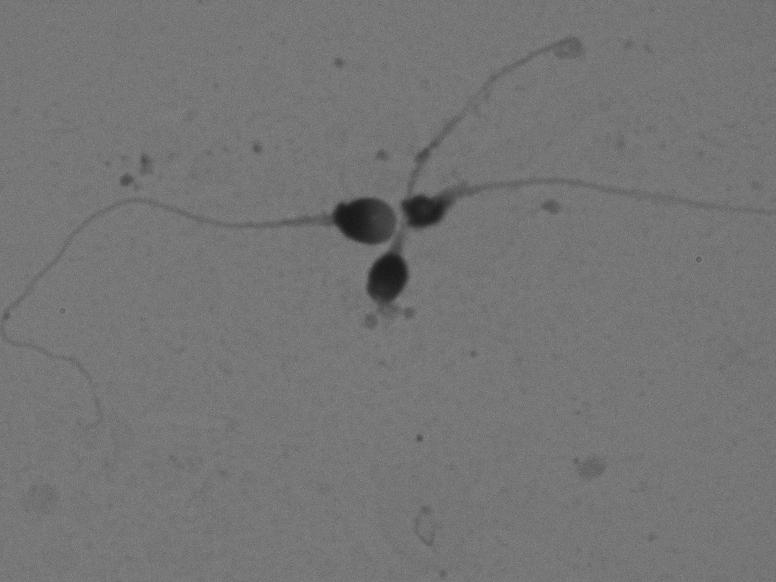Abnormal: (2, 181, 400, 441), (344, 10, 603, 315), (399, 140, 772, 256)
